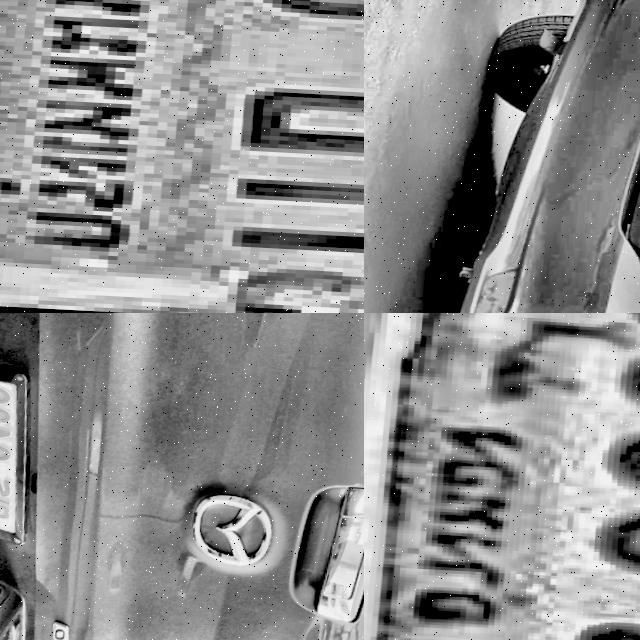license-plate: (0, 0, 364, 313), (364, 313, 640, 640), (0, 356, 44, 550)
